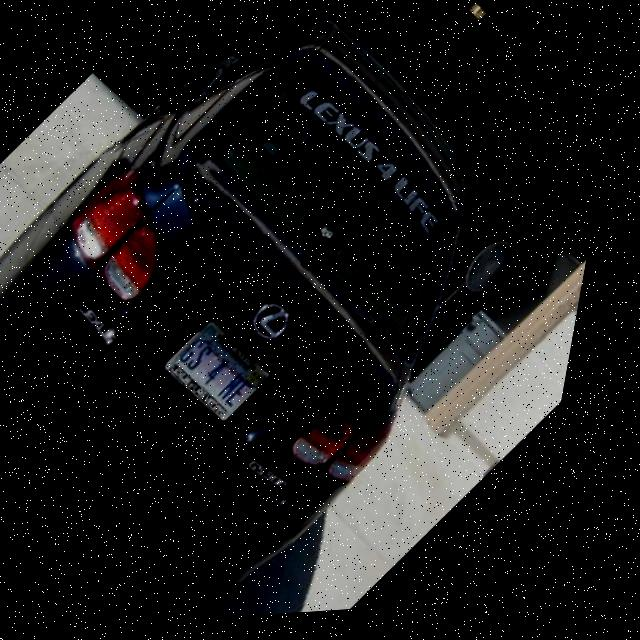license_plate: (168, 318, 294, 433)
